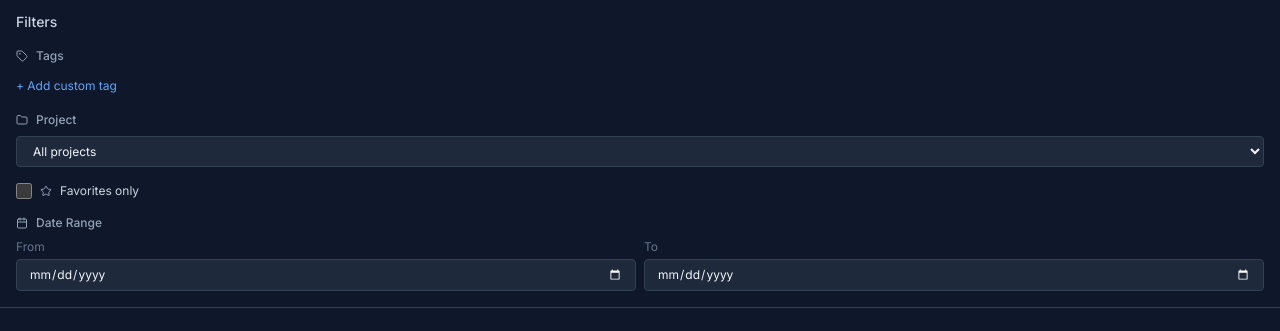
it: FilterPanel › Tag filter › should show custom tag input when button clicked
Step 1. Click the button "+ Add custom tag" → (66, 86), box [16, 78, 117, 94]
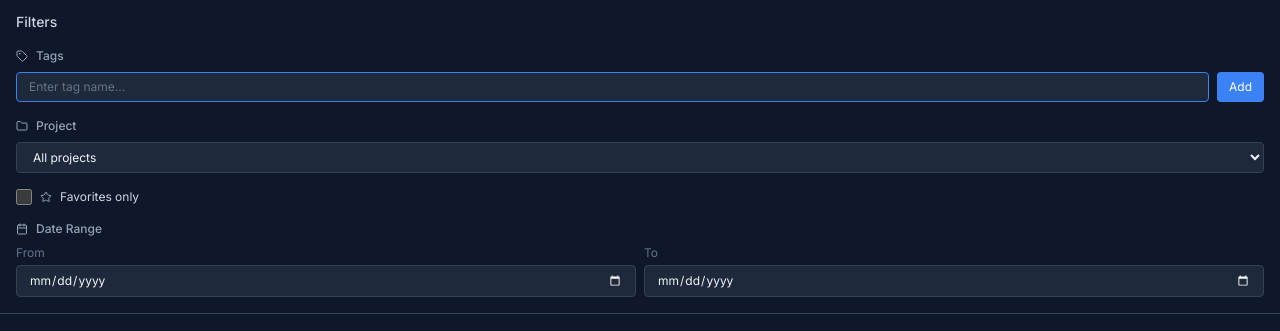
Now the field with placeholder "Enter tag name..." is shown, box [16, 72, 1209, 102]
